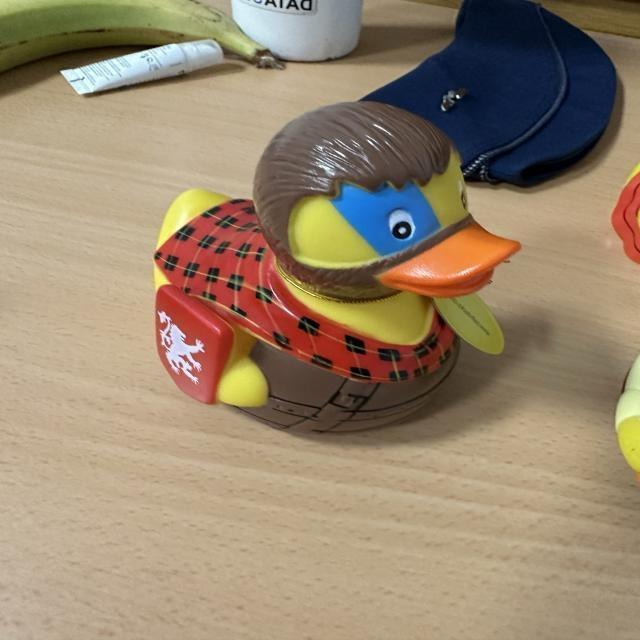rubber-duck: (153, 101, 518, 430)
